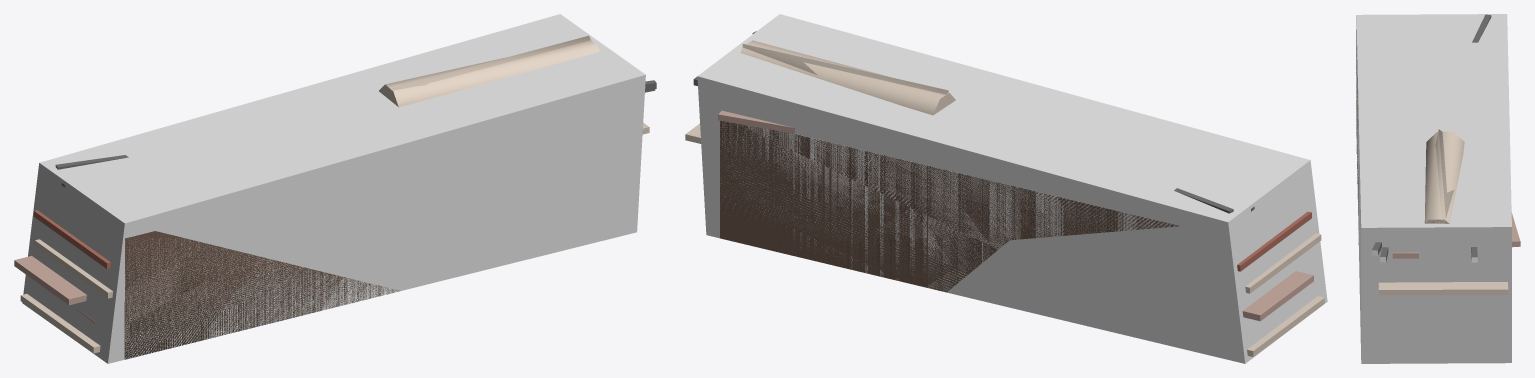
Rendered from port_scrap3.dae.
3 renders of one model, left to right at view 1: azimuth 30°, elevation 25°; view 2: azimuth 150°, elevation 25°; view 3: azimuth 270°, elevation 25°, orthographic. The views are drawn at different scales.
Visible parts, largest first — view 1: Colmesh-1, port_scrap3_a150, port_scrap3_a030, port_scrap3_a020; view 2: Colmesh-1, port_scrap3_a150, port_scrap3_a020, port_scrap3_a030; view 3: Colmesh-1, port_scrap3_a150, port_scrap3_a030, port_scrap3_a020.
Part boxes in pixels (x1,y1,x2,y2): Colmesh-1: (22,14,645,363); port_scrap3_a150: (14,40,656,355); port_scrap3_a030: (76,35,646,359); port_scrap3_a020: (124,238,399,359); Colmesh-1: (697,14,1327,363); port_scrap3_a150: (685,31,1324,356); port_scrap3_a020: (720,122,1176,291); port_scrap3_a030: (720,44,1238,290); Colmesh-1: (1356,14,1511,363); port_scrap3_a150: (1356,14,1520,295); port_scrap3_a030: (1356,29,1453,244); port_scrap3_a020: (1356,28,1358,245).
Size of the model in its own units: 2.87 by 0.7879 by 0.7765.
